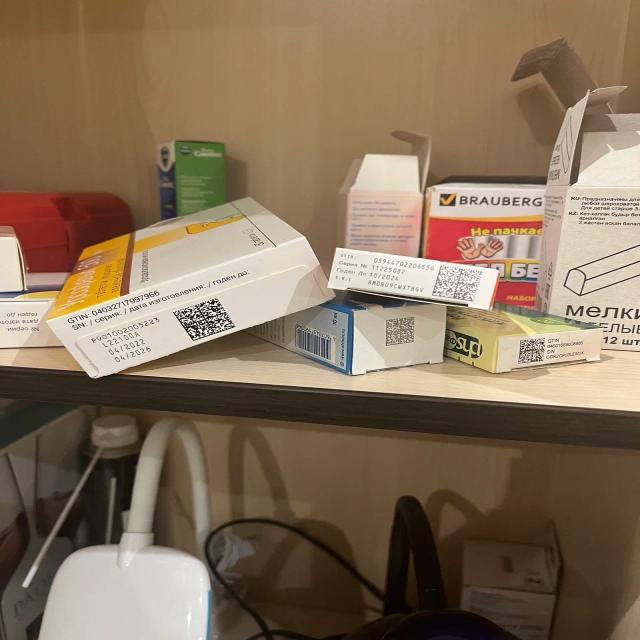datamatrix: (174, 298, 237, 343), (431, 265, 485, 304), (386, 316, 417, 348), (518, 338, 547, 365)
